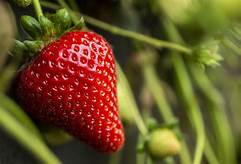Fresa: (15, 27, 129, 157)
